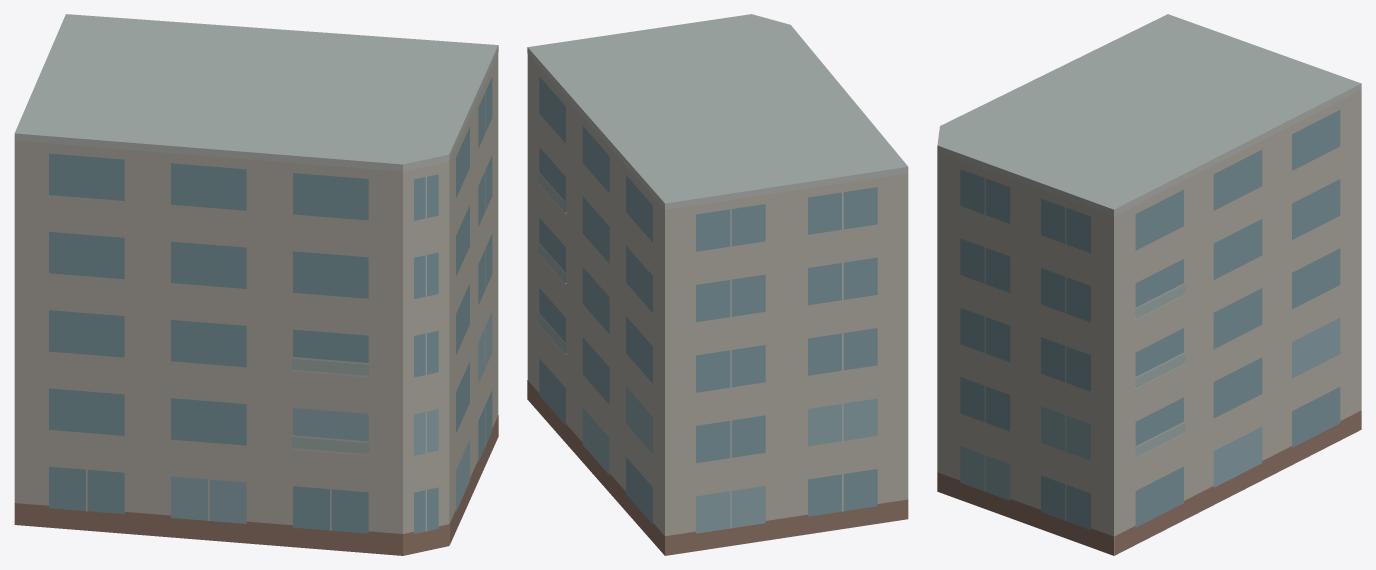
The model's file is survey-upis-32883257.glb.
3 views of the same model, side by side, from view 1: azimuth 30°, elevation 25°; view 2: azimuth 150°, elevation 25°; view 3: azimuth 270°, elevation 25° (orthographic). The views are drawn at different scales.
Parts seen in each view (by area): view 1: survey-upis-32883257.tmp; view 2: survey-upis-32883257.tmp; view 3: survey-upis-32883257.tmp.
Boxes of the visible parts, x1,y1,x2,y2 form: survey-upis-32883257.tmp: (14,14,498,555); survey-upis-32883257.tmp: (527,14,908,555); survey-upis-32883257.tmp: (937,14,1361,555).
Size of the model in its own units: 16.01 by 13.2 by 14.67.
